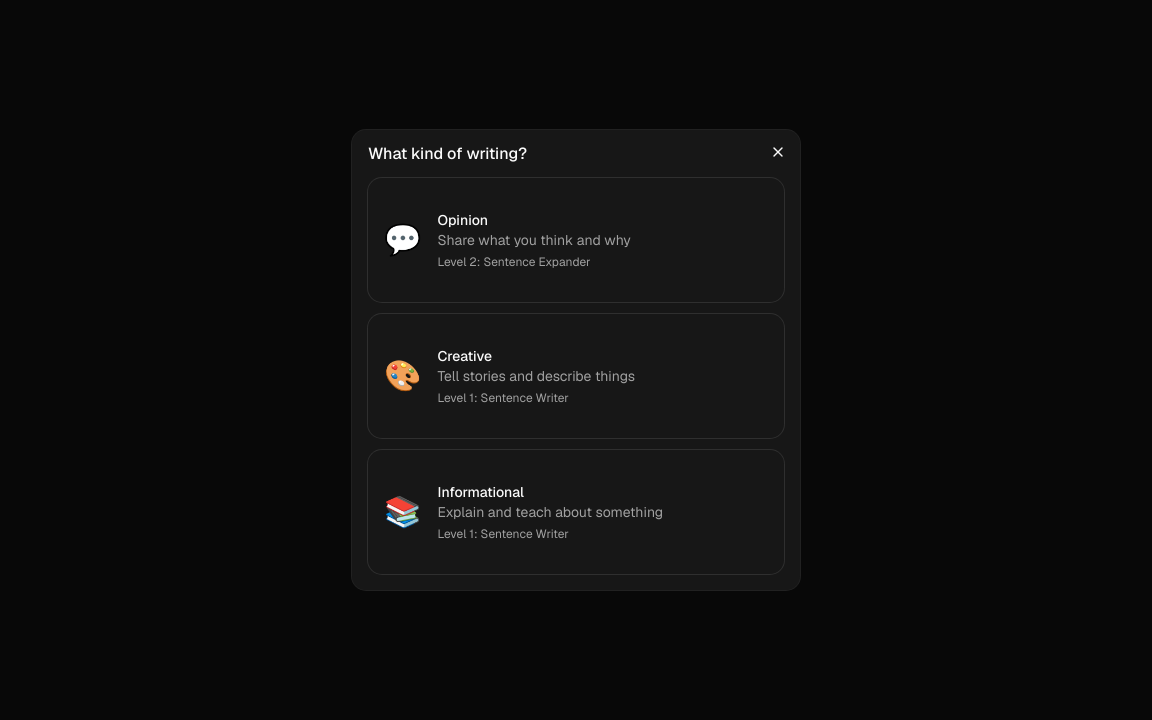
Test: NewEssayDialog › advances to the topic step when a type card is clicked
The width and height of the screenshot is (1152, 720).
Click the text "Creative".
click(465, 356)  # box [437,347,492,365]
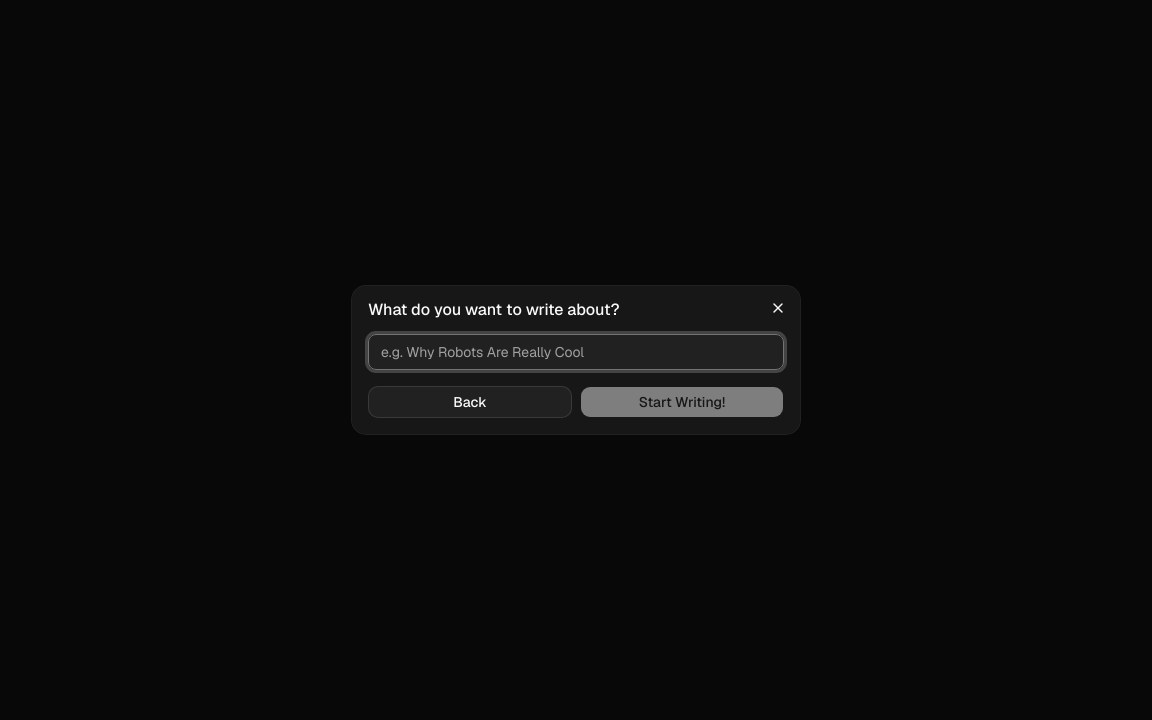
Expected: the heading "What do you want to write about?" is shown, [368,299,620,320]
